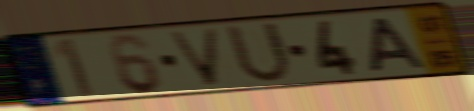1: (52, 35, 97, 100)
4: (316, 18, 360, 77)
6: (107, 31, 164, 96)
A: (368, 16, 429, 75)
U: (222, 21, 294, 87)
V: (165, 27, 223, 89)
